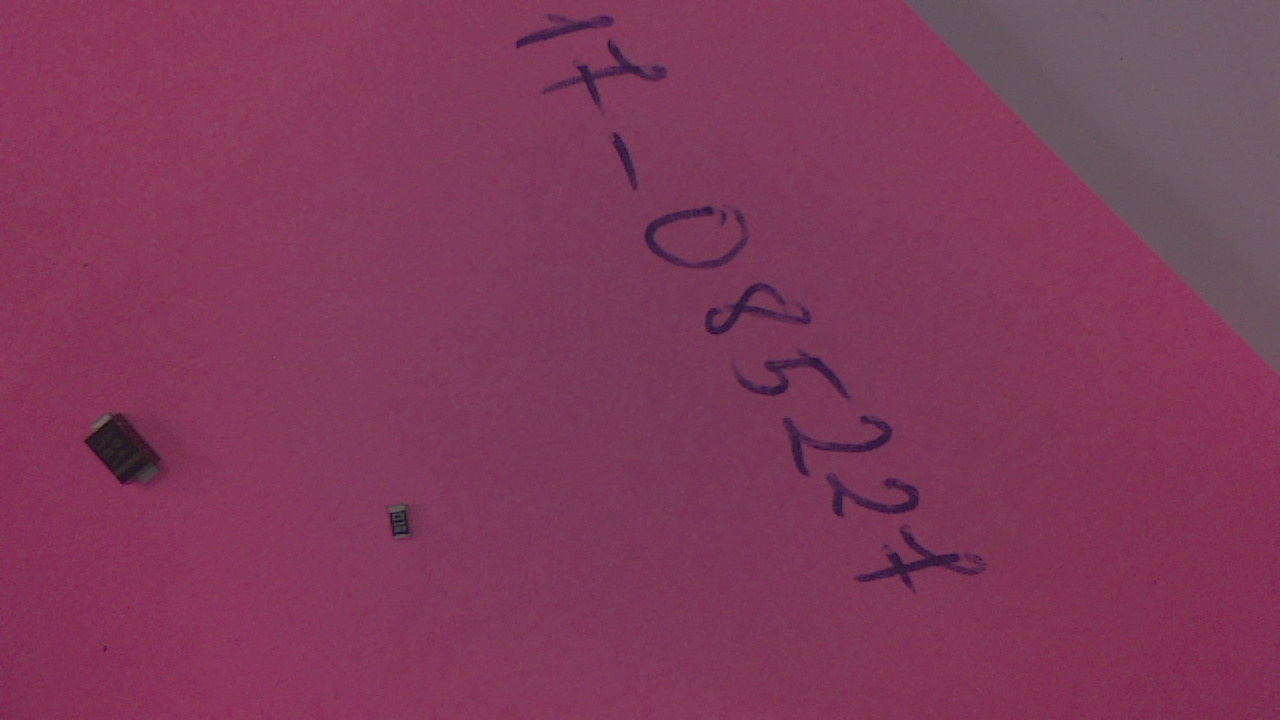Diode: (86, 419, 171, 492)
Resistor: (390, 508, 420, 550)
